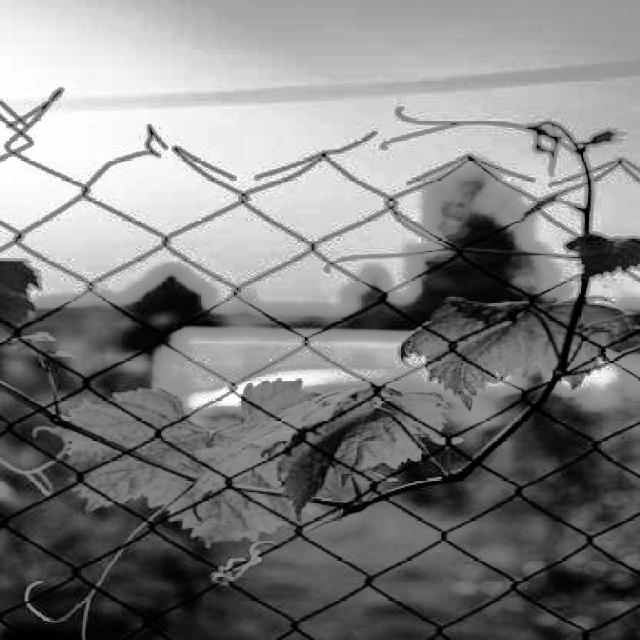anomaly-fence: (4, 41, 640, 218)
